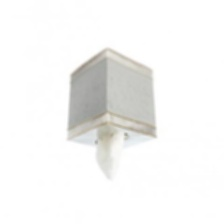tissue: (89, 128, 132, 187)
